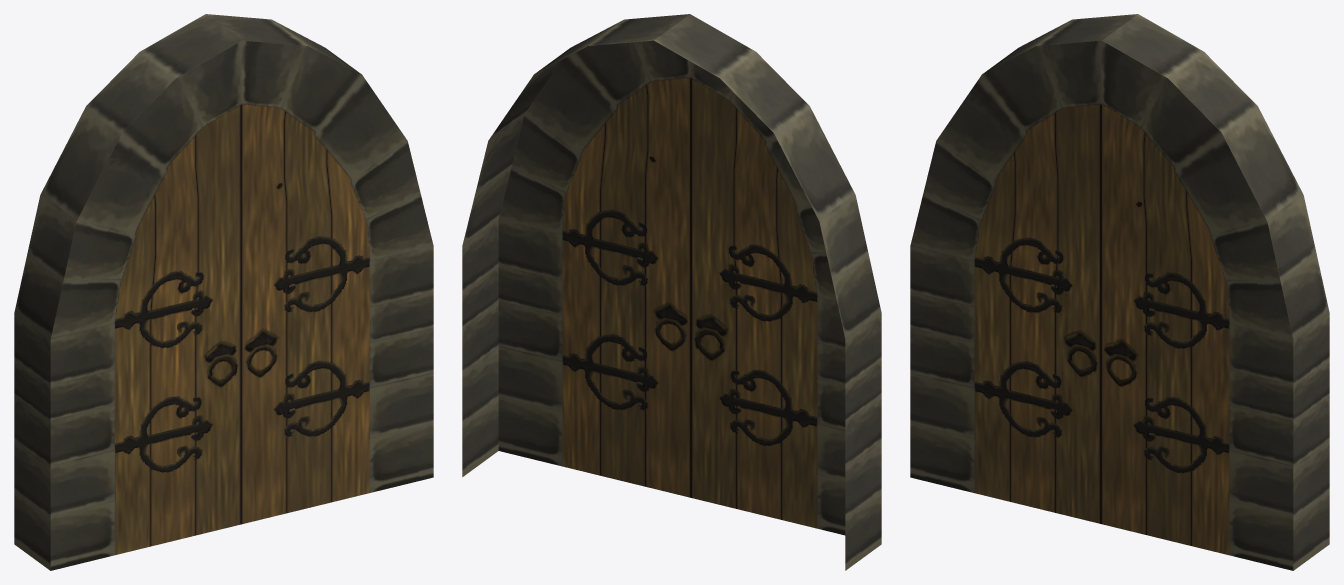
Rendered from Door.fbx.
The picture shows the model from 3 angles, left to right: view 1: azimuth 30°, elevation 25°; view 2: azimuth 150°, elevation 25°; view 3: azimuth 330°, elevation 25°; orthographic projection.
Visible parts, largest first — view 1: Door2; view 2: Door2; view 3: Door2.
Boxes of the visible parts, x1=… form: Door2: x1=14, y1=14, x2=433, y2=570; Door2: x1=462, y1=14, x2=881, y2=570; Door2: x1=910, y1=14, x2=1329, y2=570.
Bounding box in the file's own units: 1.85 × 2.23 × 0.3038.
